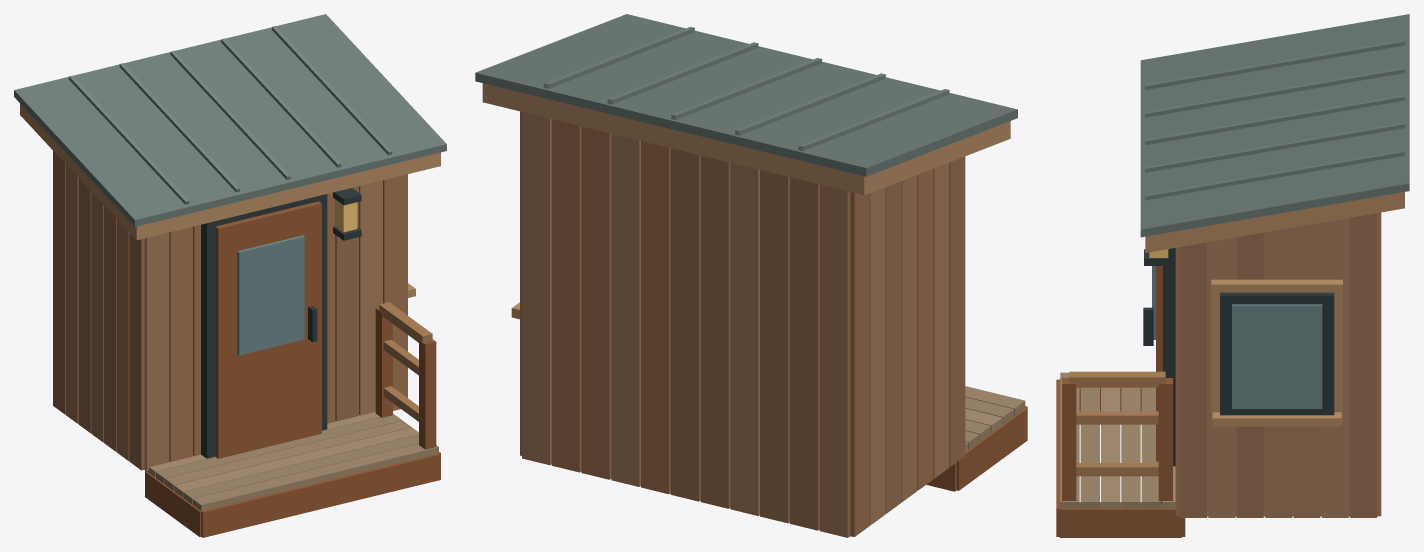
File: mudroom.glb
3 views of the same model, side by side, from view 1: azimuth 30°, elevation 25°; view 2: azimuth 150°, elevation 25°; view 3: azimuth 270°, elevation 25° (orthographic). The views are drawn at different scales.
Parts seen in each view (by area): view 1: KitMudroomDetails, KitMudroomRoofFinish, KitMudroomSiding; view 2: KitMudroomSiding, KitMudroomRoofFinish, KitMudroomDetails; view 3: KitMudroomRoofFinish, KitMudroomDetails, KitMudroomSiding.
Part boxes in pixels (x1=…): KitMudroomDetails: x1=20, y1=103, x2=440, y2=537; KitMudroomRoofFinish: x1=14, y1=14, x2=446, y2=226; KitMudroomSiding: x1=53, y1=151, x2=407, y2=470; KitMudroomSiding: x1=520, y1=111, x2=965, y2=537; KitMudroomRoofFinish: x1=475, y1=14, x2=1017, y2=176; KitMudroomDetails: x1=482, y1=83, x2=1027, y2=491; KitMudroomRoofFinish: x1=1140, y1=14, x2=1409, y2=237; KitMudroomDetails: x1=1056, y1=192, x2=1404, y2=537; KitMudroomSiding: x1=1175, y1=212, x2=1381, y2=517.
Bounding box in the file's own units: 2.96 × 3.09 × 2.6.
